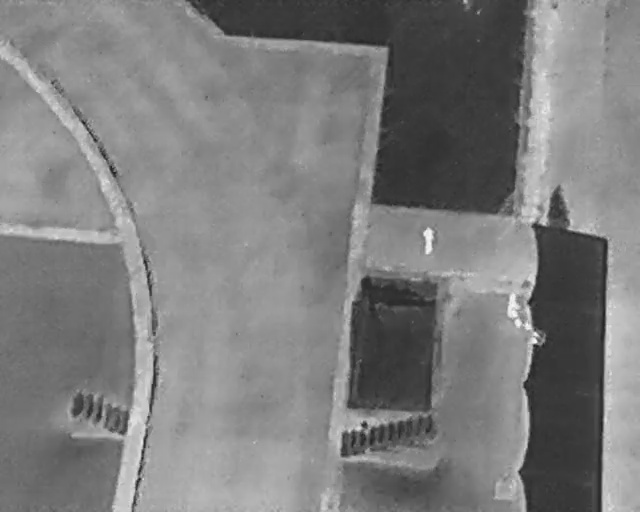Person: (421, 223, 436, 256), (505, 292, 522, 319)
